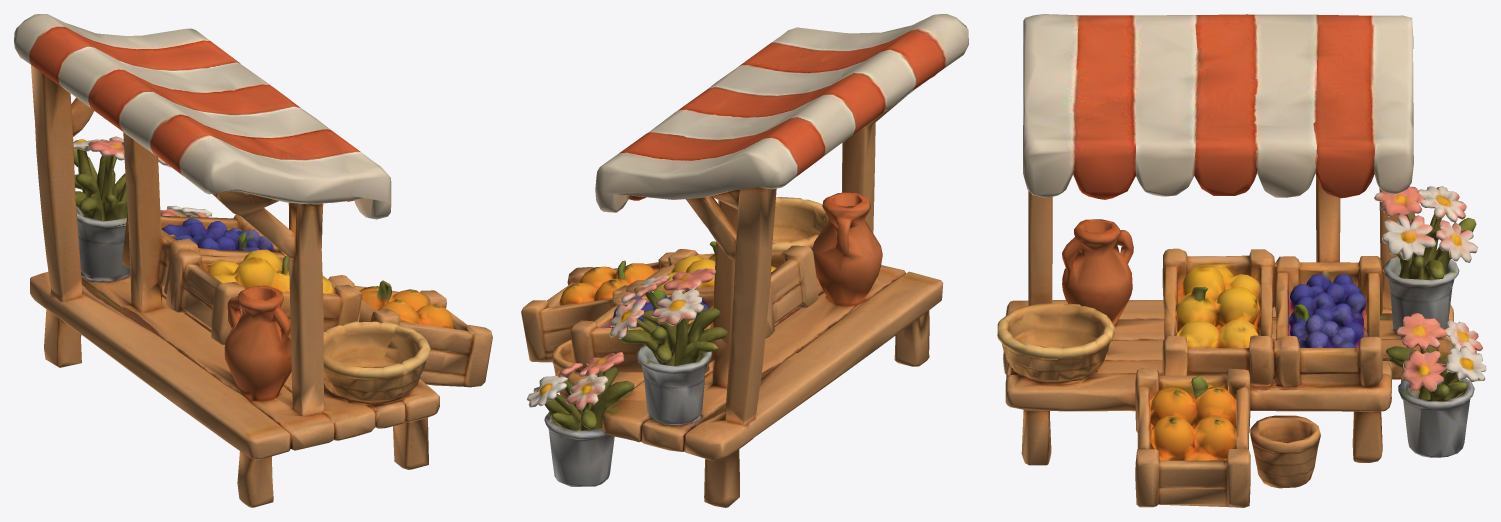
Rendered from stall.glb.
The picture shows the model from 3 angles, left to right: view 1: azimuth 30°, elevation 25°; view 2: azimuth 150°, elevation 25°; view 3: azimuth 270°, elevation 25°; orthographic projection.
Visible parts, largest first — view 1: tripo_node_0a224767-75c0-4c25-9811-166ec982c720; view 2: tripo_node_0a224767-75c0-4c25-9811-166ec982c720; view 3: tripo_node_0a224767-75c0-4c25-9811-166ec982c720.
Part boxes in pixels (x1,y1,x2,y2): tripo_node_0a224767-75c0-4c25-9811-166ec982c720: (14, 14, 492, 507); tripo_node_0a224767-75c0-4c25-9811-166ec982c720: (521, 14, 968, 507); tripo_node_0a224767-75c0-4c25-9811-166ec982c720: (997, 14, 1486, 507).
Bounding box in the file's own units: 0.7983 × 0.7948 × 0.996.
Materials: 1 (1 with a texture image).
